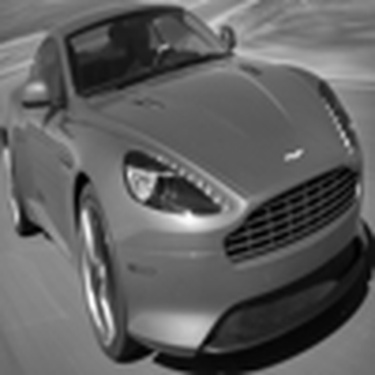car: (13, 14, 363, 366)
